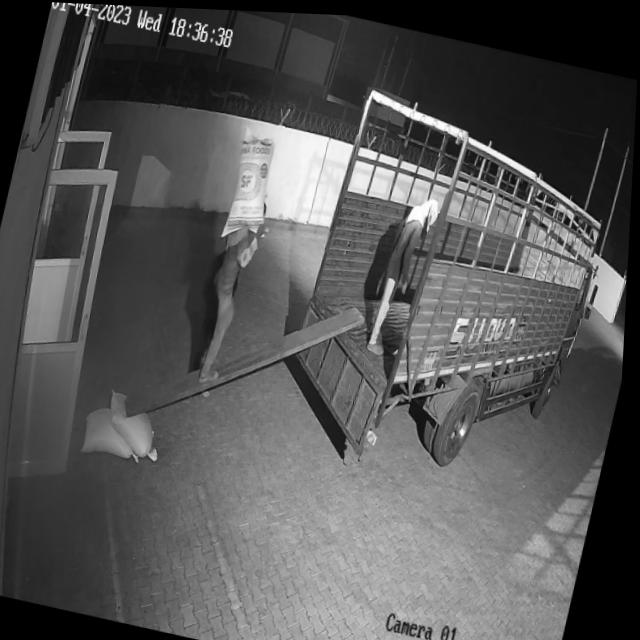sack: (221, 125, 284, 245), (103, 387, 173, 460), (82, 402, 153, 463)
